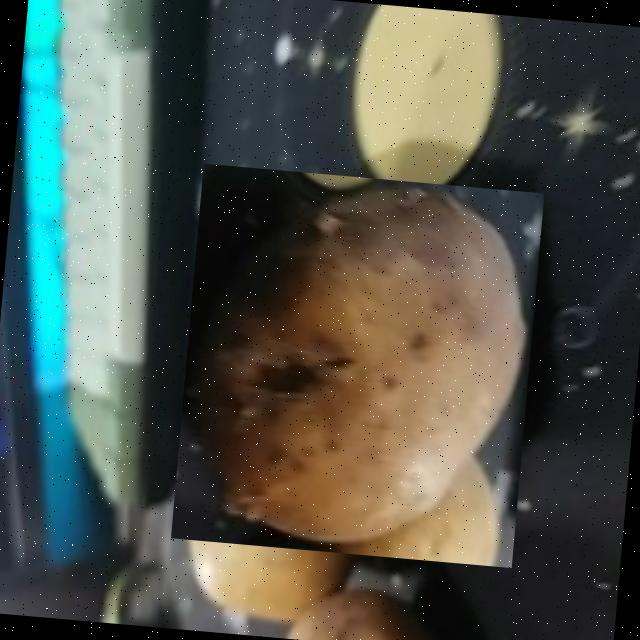Damaged potato: (170, 163, 542, 568)
Potato: (175, 424, 355, 630)
